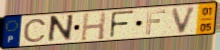C: (22, 18, 48, 43)
F: (108, 10, 136, 40), (145, 9, 167, 36)
H: (79, 11, 108, 42)
N: (45, 13, 75, 45)
V: (170, 5, 199, 35)
